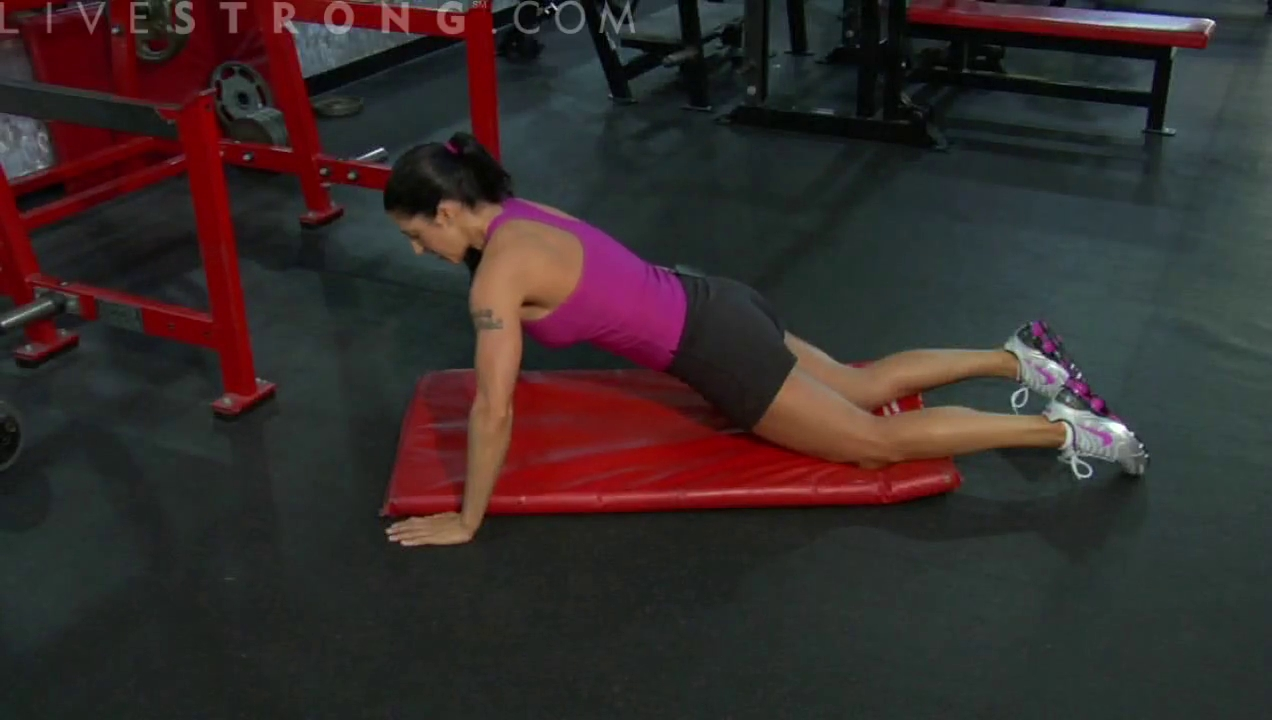person: (382, 131, 1149, 548)
